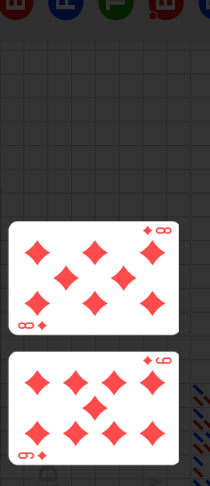8D: (141, 225, 173, 236)
9D: (17, 450, 49, 461)
